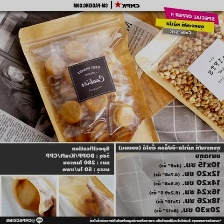snack: (14, 11, 163, 141), (131, 10, 224, 141)
